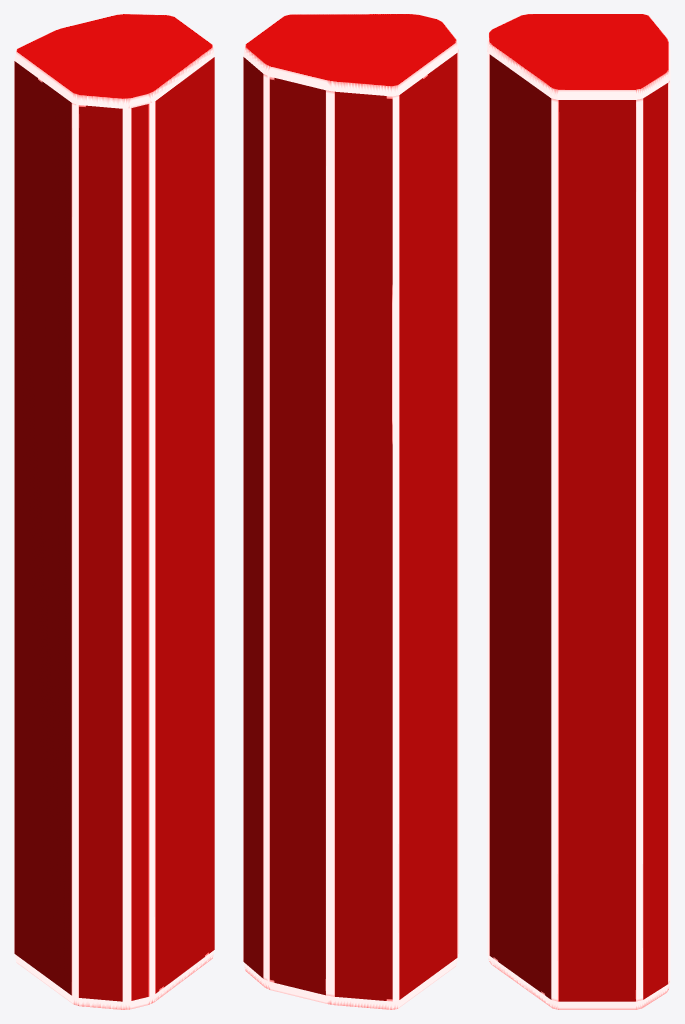
The model's file is hranol.fbx.
3 views of the same model, side by side, from view 1: azimuth 30°, elevation 25°; view 2: azimuth 150°, elevation 25°; view 3: azimuth 270°, elevation 25° (orthographic).
Visible parts, largest first — view 1: hranol; view 2: hranol; view 3: hranol.
Boxes of the visible parts, box(x1,y1,x2,y2) form: hranol: box(14, 14, 214, 1009); hranol: box(243, 14, 458, 1009); hranol: box(487, 14, 670, 1009).
Bounding box in the file's own units: 2 × 11.06 × 2.
1 material, 1 textured.
